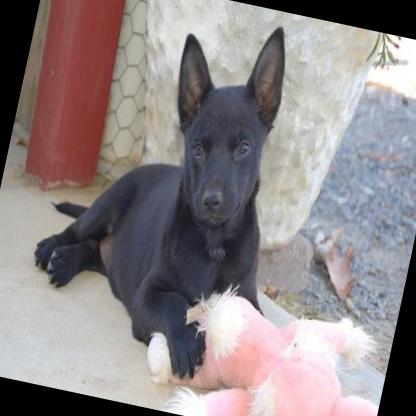kelpie: (11, 0, 322, 394)
